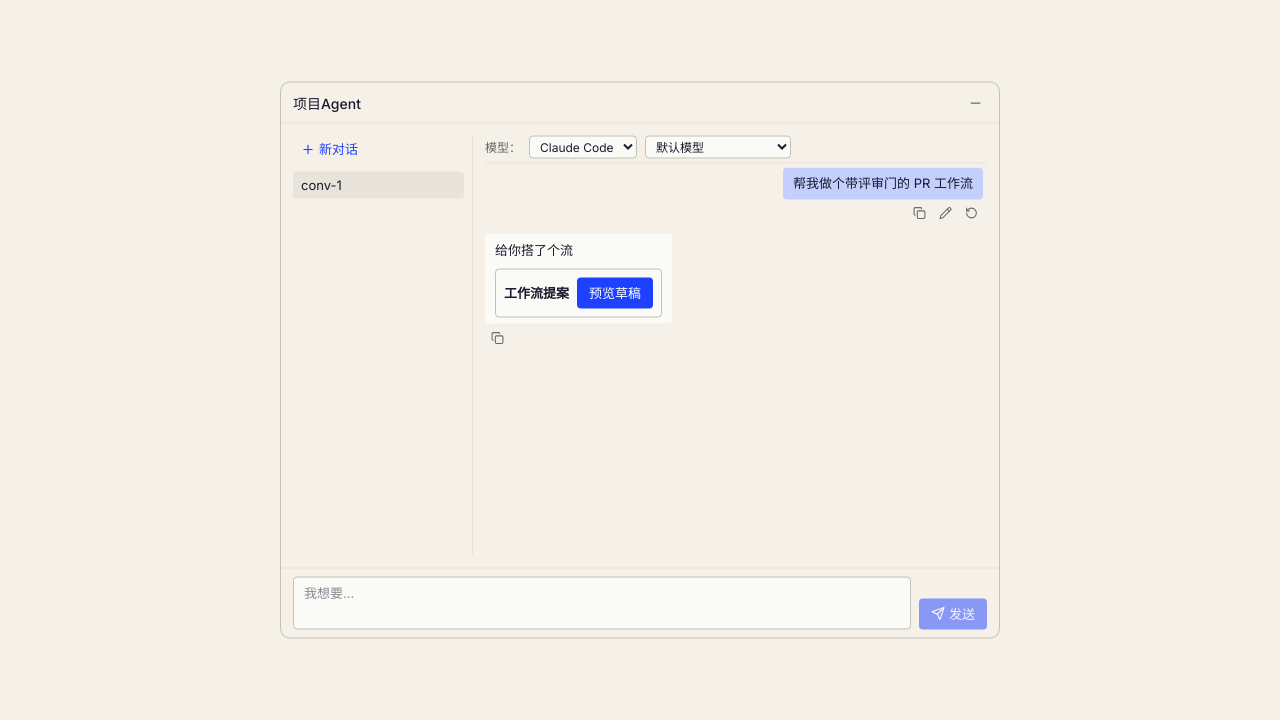
Test case: 工作流提案审阅 › 板子只留「工作流提案」+「预览草稿」；点开进编辑器、主按钮「保存并设为本项目工作流」一键保存并激活（不关闭）
expect the text "工作流提案" is shown: met, box [504, 283, 569, 303]
expect the text "推送主干" is not shown: met
// 点「预览草稿」打开完整编辑器（草稿态：显示名输入框带流名）
Click the button "预览草稿" at (615, 293), box [577, 277, 653, 309]
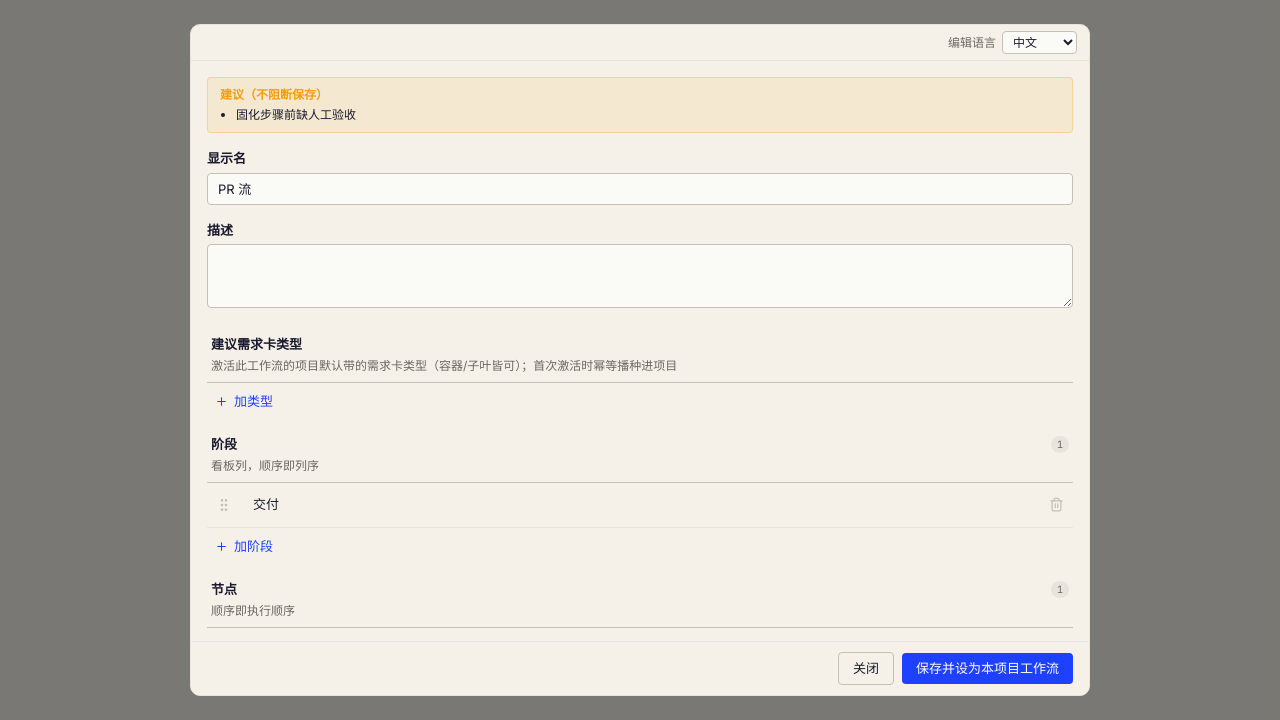
expect the field showing "PR 流" is shown: met, box [207, 172, 1073, 204]
expect the button "关闭" is shown: met, box [838, 652, 894, 685]
// 一键：保存入库 + 激活（setActiveWorkflow），两件事一次点击完成
Click the button "保存并设为本项目工作流" at (988, 668), box [902, 652, 1073, 684]
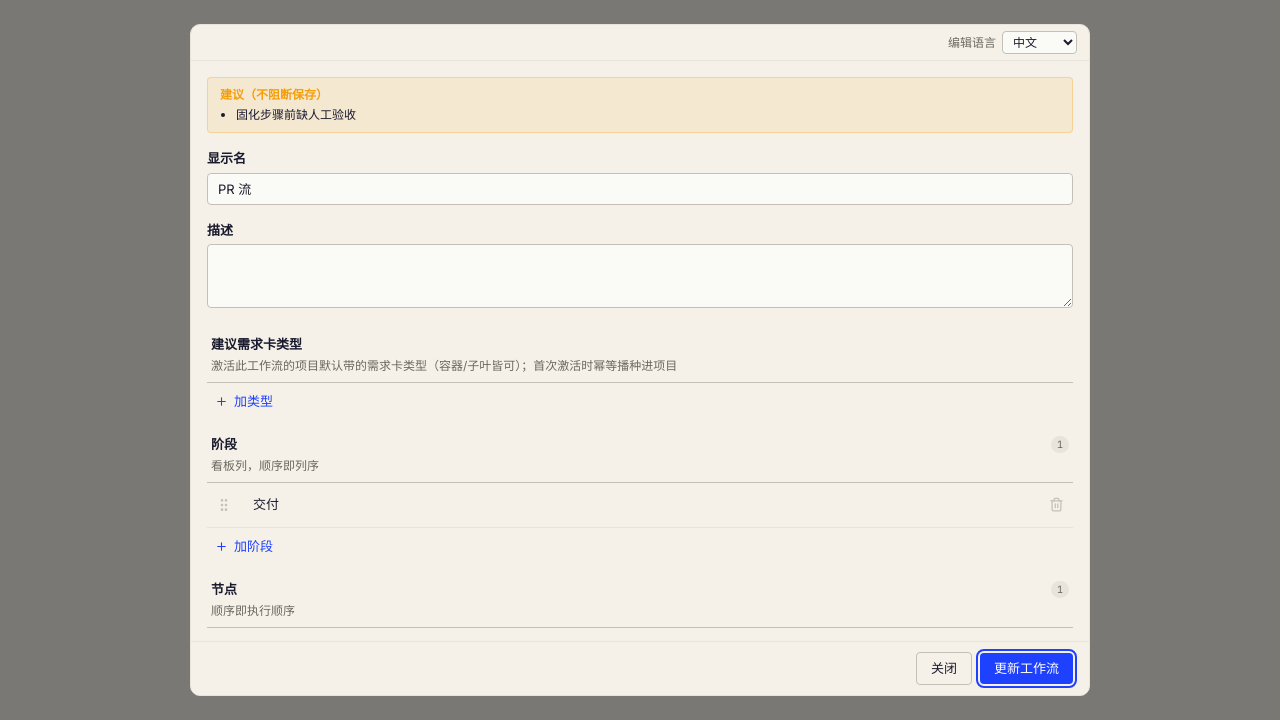
expect the button "更新工作流" is shown: met, box [980, 652, 1073, 684]
